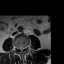CCS_normal: (20, 46, 22, 55)
LFS_normal: (24, 44, 26, 50)
LLS_normal: (22, 45, 24, 52)
RFS_stenosis: (16, 44, 18, 50)
RLS_stenosis: (18, 45, 20, 52)
